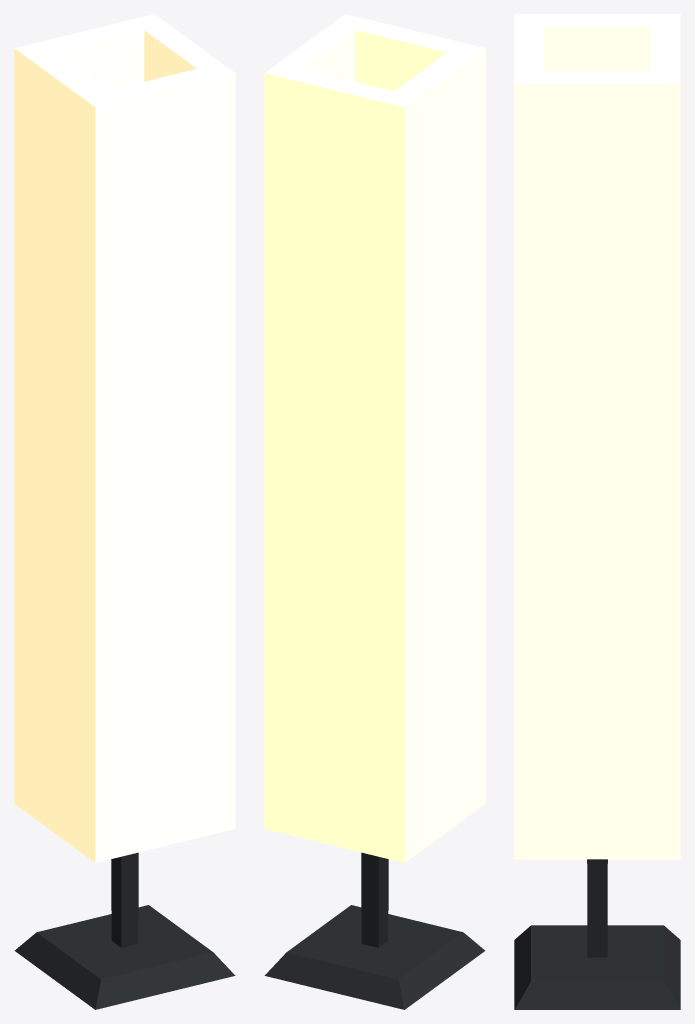
File: lamp-floor-square.glb
3 views of the same model, side by side, from view 1: azimuth 30°, elevation 25°; view 2: azimuth 150°, elevation 25°; view 3: azimuth 270°, elevation 25° (orthographic). The views are drawn at different scales.
Parts seen in each view (by area): view 1: lamp-floor-square; view 2: lamp-floor-square; view 3: lamp-floor-square.
Part boxes in pixels (left/top/right/bottom): lamp-floor-square: left=14, top=14, right=235, bottom=1009; lamp-floor-square: left=264, top=14, right=485, bottom=1009; lamp-floor-square: left=514, top=14, right=680, bottom=1009.
Size of the model in its own units: 0.26 by 1.6 by 0.26.
